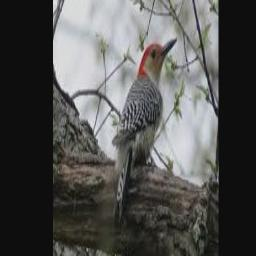Woodpecker: (112, 37, 178, 223)
